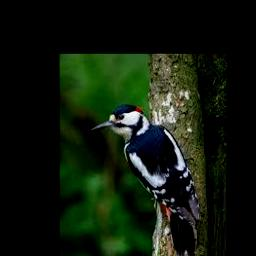Woodpecker: (91, 104, 202, 256)
